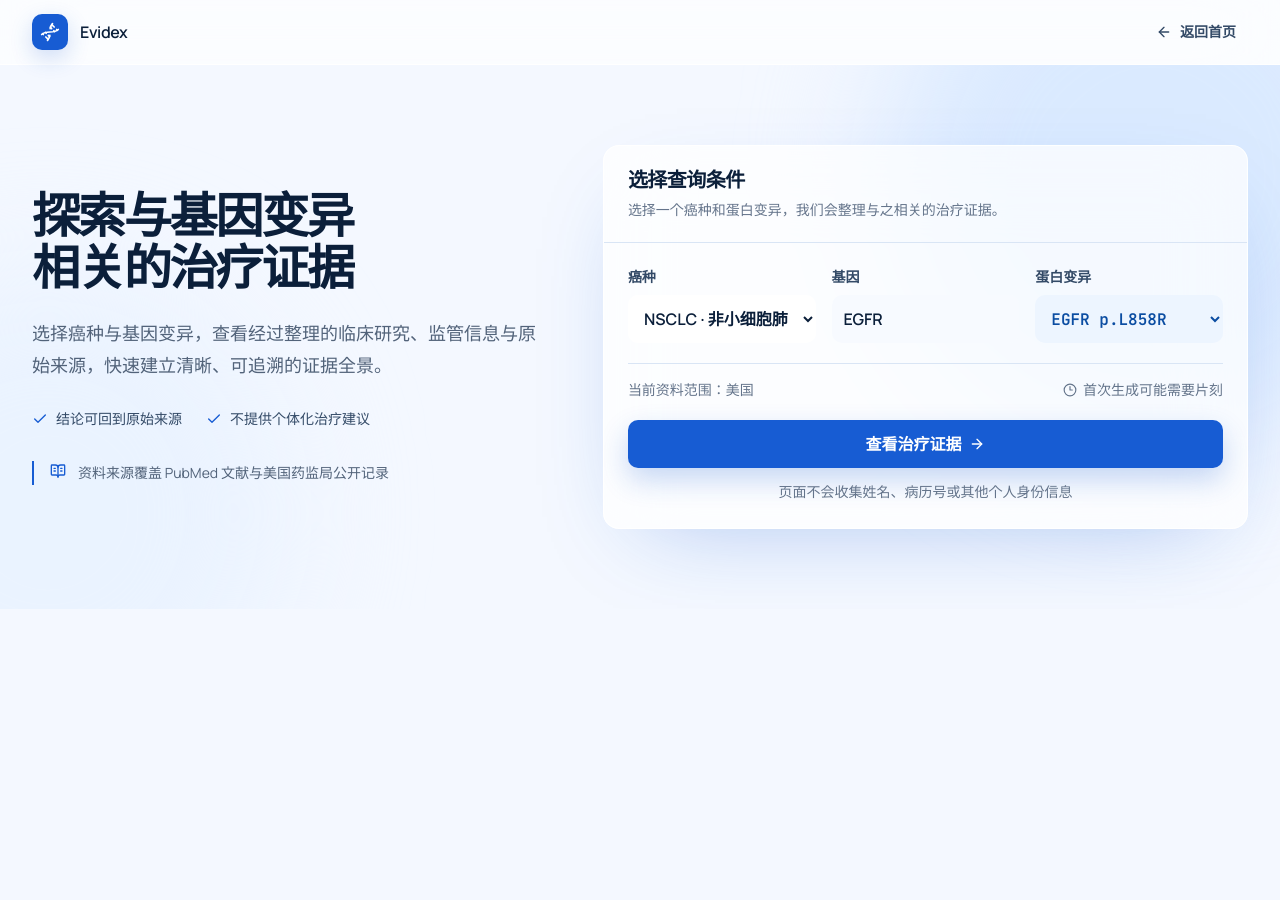
Scenario: EvidenceExplorer › keeps structured evidence visible when the generated summary is unavailable
Click the button "查看治疗证据": click(925, 444) [628,420,1223,468]
(page scrolled)
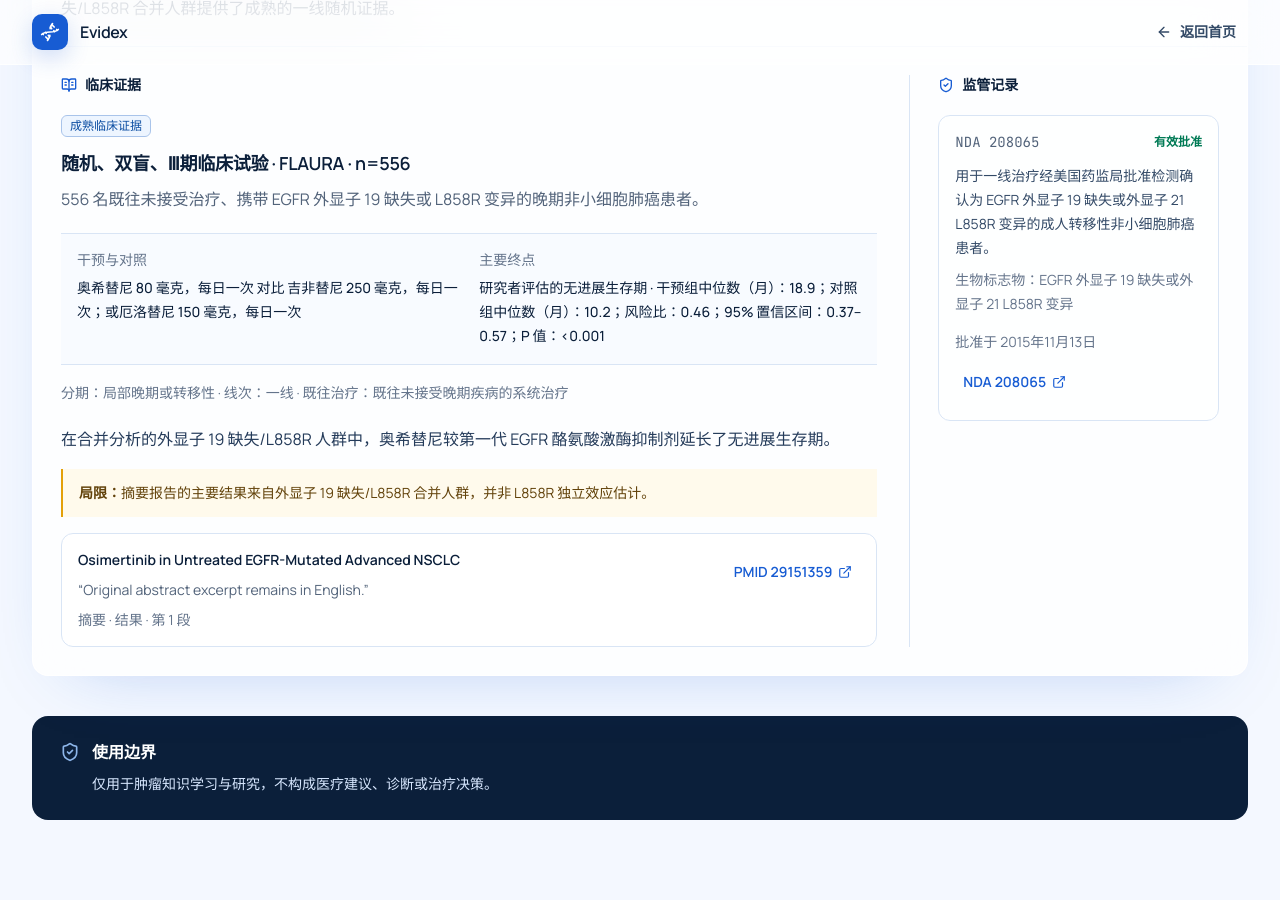
Result: the link with aria-label "查看文献原文" is shown at [734,562,852,581]
